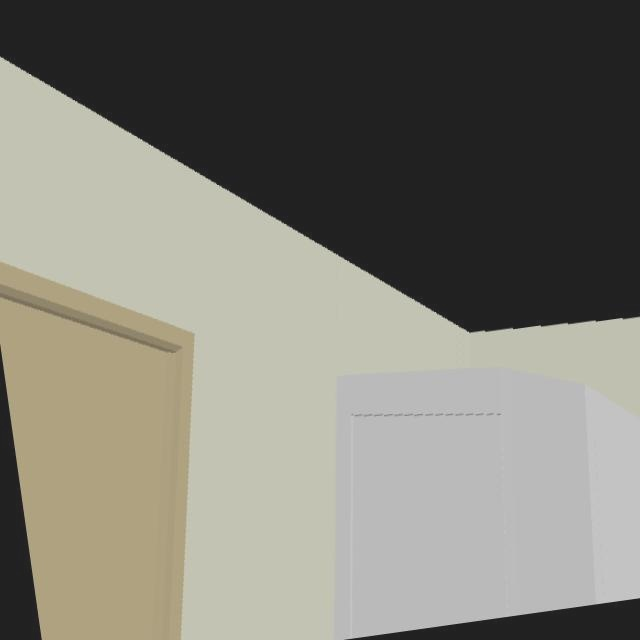shower: (333, 368, 640, 640)
